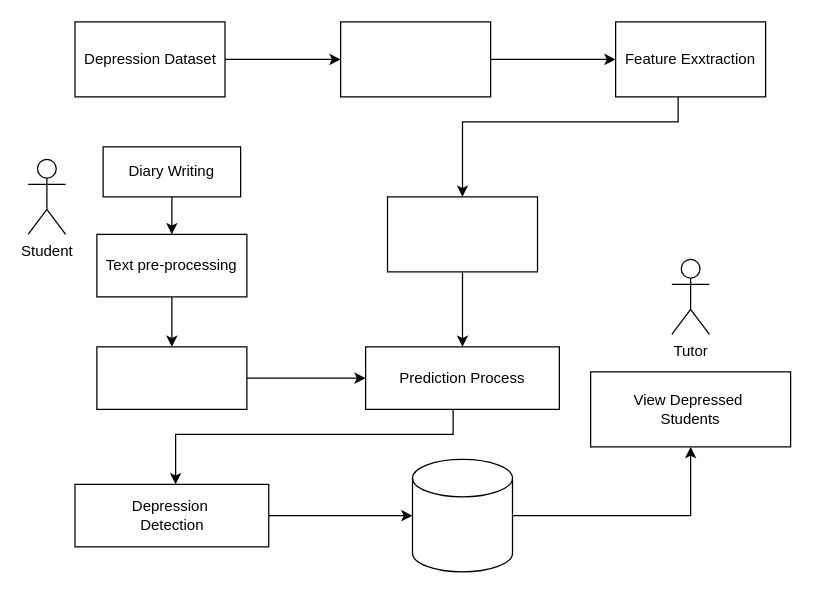
Image size: 813x594. Some labels were removed from this diagram. The centre of each missing label's shape, as x and y in pixels:
"Data pre-processing" goes at (415,59).
"Database" goes at (461,515).
"Depression Detection Model" goes at (462,234).
"Feature Extraction" goes at (171,377).
